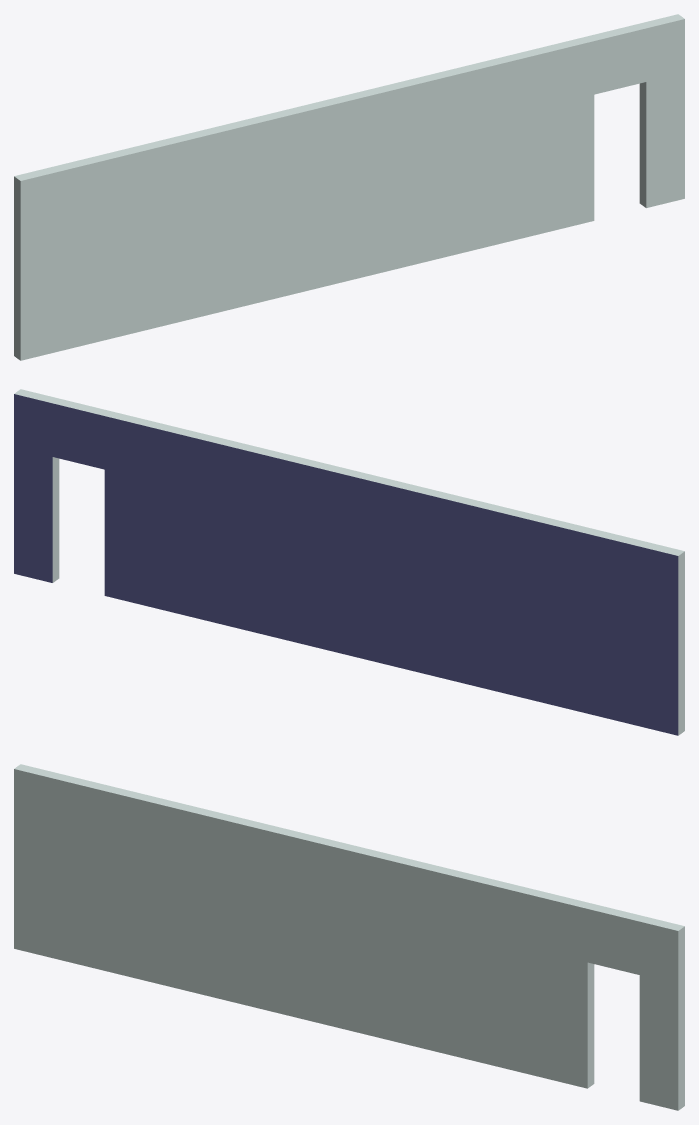
File: Wall02.fbx
3 renders of one model, top to bottom at view 1: azimuth 30°, elevation 25°; view 2: azimuth 150°, elevation 25°; view 3: azimuth 330°, elevation 25°, orthographic.
Parts seen in each view (by area): view 1: Cube.178; view 2: Cube.178; view 3: Cube.178.
Part boxes in pixels (left/top/right/bottom): Cube.178: left=14, top=14, right=684, bottom=360; Cube.178: left=14, top=389, right=684, bottom=735; Cube.178: left=14, top=764, right=684, bottom=1110.
Bounding box in the file's own units: 1160 × 300 × 20.
